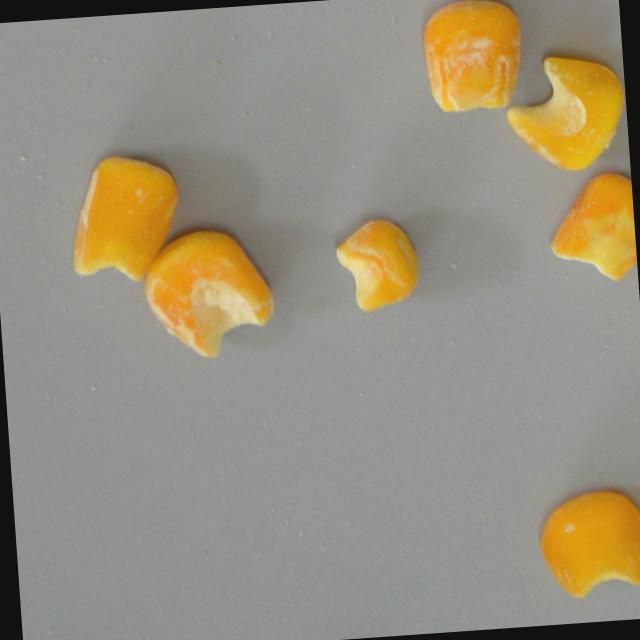dañado: (138, 221, 281, 364), (63, 146, 186, 289), (500, 47, 630, 178), (415, 0, 529, 118), (534, 483, 640, 604), (543, 167, 638, 286)
pelicula: (329, 212, 426, 316)
